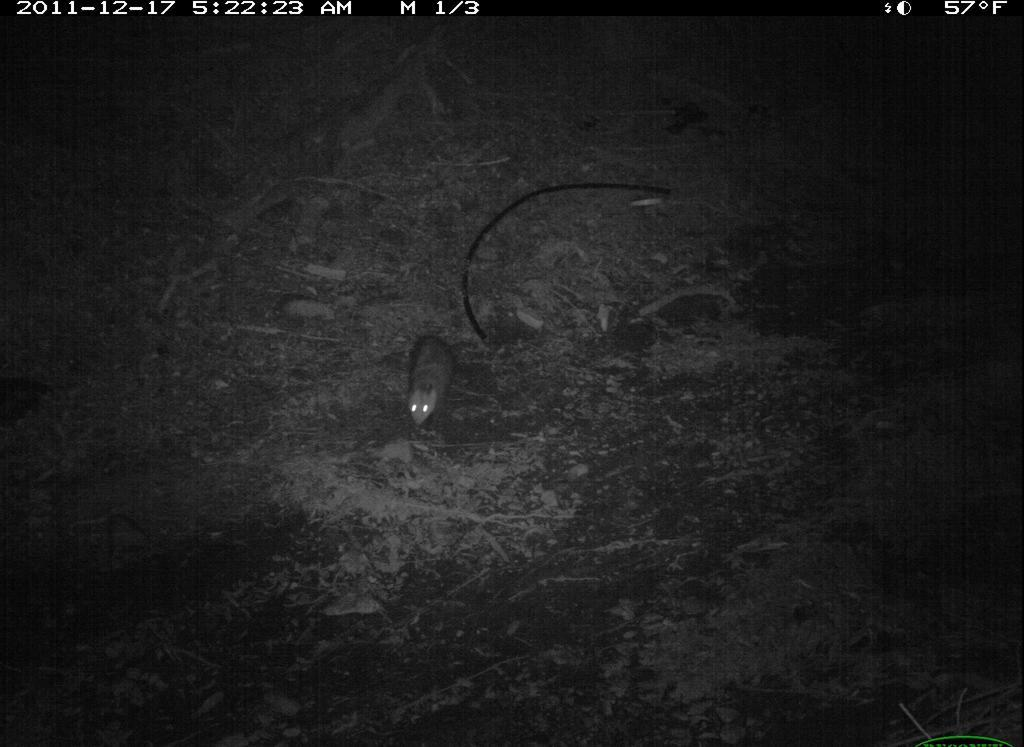opossum: (393, 321, 475, 440)
